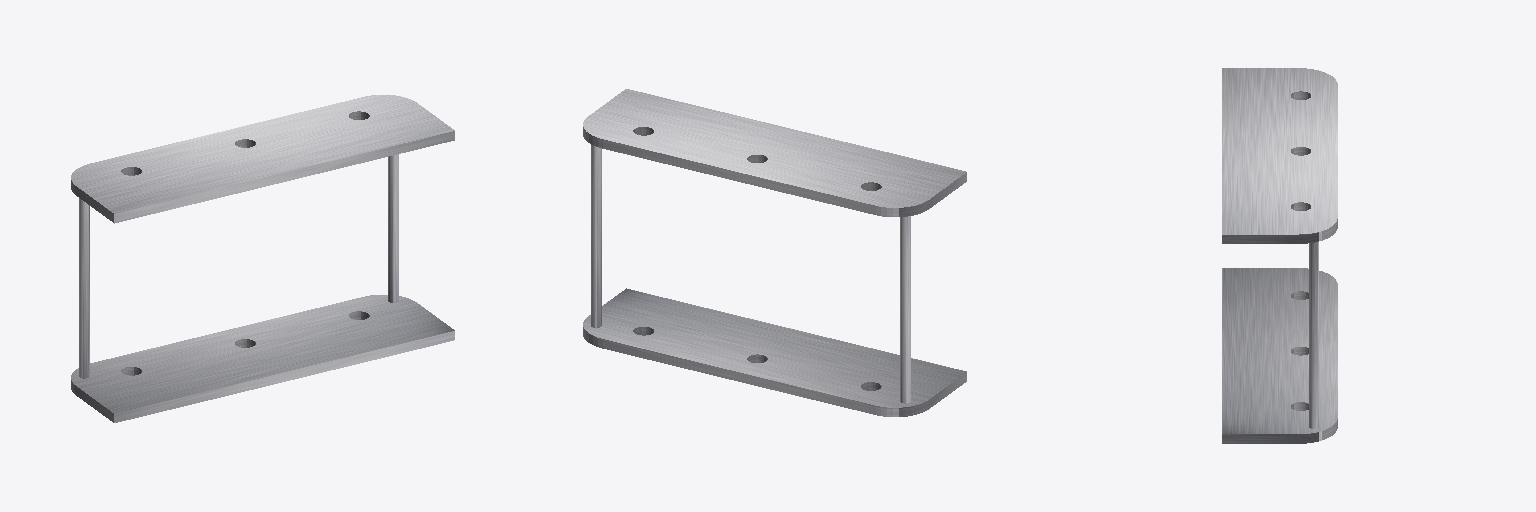
The picture shows the model from 3 angles: view 1: azimuth 30°, elevation 25°; view 2: azimuth 150°, elevation 25°; view 3: azimuth 270°, elevation 25°; orthographic projection.
Parts seen in each view (by area): view 1: MeshBody1; view 2: MeshBody1; view 3: MeshBody1.
Part boxes in pixels (left/top/right/bottom): MeshBody1: left=71, top=95, right=454, bottom=422; MeshBody1: left=583, top=89, right=966, bottom=416; MeshBody1: left=1222, top=68, right=1337, bottom=443.
Size of the model in its own units: 150 by 88 by 44.
1 materials, 1 textured.